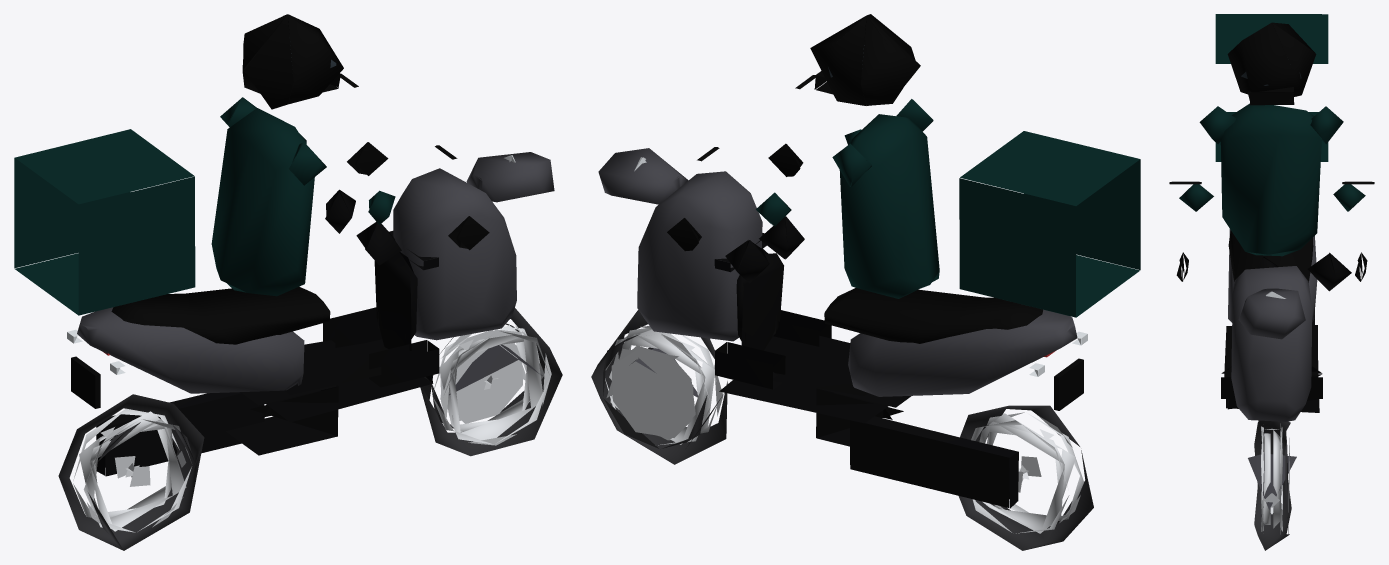
Rendered from m_livreur_ufar.glb.
3 renders of one model, left to right at view 1: azimuth 30°, elevation 25°; view 2: azimuth 150°, elevation 25°; view 3: azimuth 270°, elevation 25°, orthographic. The views are drawn at different scales.
Parts seen in each view (by area): view 1: TopBox, Shield, Torso, WheelF, WheelR, Rear, Seat, Helmet, Floor, CVT, Engine, Inner (+10 smaller); view 2: TopBox, Shield, Torso, WheelF, Rear, CVT, WheelR, Seat, Helmet, Floor, HeadCover, Inner (+10 smaller); view 3: Torso, Shield, Helmet, WheelF, TopBox, HeadCover, Seat, Floor, Knee, FenderF, Shoulder.001, Chin (+6 smaller).
Part boxes in pixels (x1=…): TopBox: x1=14, y1=129, x2=195, y2=315; Shield: x1=393, y1=168, x2=516, y2=340; Torso: x1=211, y1=108, x2=314, y2=296; WheelF: x1=420, y1=308, x2=562, y2=456; WheelR: x1=58, y1=394, x2=204, y2=550; Rear: x1=77, y1=307, x2=304, y2=393; Seat: x1=111, y1=286, x2=330, y2=344; Helmet: x1=242, y1=14, x2=343, y2=109; Floor: x1=266, y1=339, x2=433, y2=422; CVT: x1=96, y1=392, x2=264, y2=476; Engine: x1=225, y1=385, x2=338, y2=455; Inner: x1=374, y1=252, x2=417, y2=350; TopBox: x1=959, y1=131, x2=1140, y2=317; Shield: x1=637, y1=171, x2=762, y2=341; Torso: x1=839, y1=114, x2=939, y2=298; WheelF: x1=591, y1=310, x2=727, y2=464; Rear: x1=848, y1=309, x2=1077, y2=396; CVT: x1=850, y1=412, x2=1018, y2=508; WheelR: x1=958, y1=405, x2=1093, y2=550; Seat: x1=824, y1=288, x2=1042, y2=343; Helmet: x1=810, y1=14, x2=920, y2=105; Floor: x1=719, y1=335, x2=888, y2=423; HeadCover: x1=598, y1=148, x2=688, y2=204; Inner: x1=736, y1=248, x2=783, y2=350; Torso: x1=1220, y1=103, x2=1321, y2=256; Shield: x1=1231, y1=266, x2=1312, y2=421; Helmet: x1=1227, y1=22, x2=1316, y2=96; WheelF: x1=1254, y1=420, x2=1291, y2=550; TopBox: x1=1215, y1=14, x2=1328, y2=161; HeadCover: x1=1238, y1=288, x2=1305, y2=339; Seat: x1=1228, y1=230, x2=1313, y2=282; Floor: x1=1224, y1=325, x2=1319, y2=412; Knee: x1=1307, y1=252, x2=1351, y2=291; FenderF: x1=1248, y1=453, x2=1296, y2=509; Shoulder.001: x1=1199, y1=106, x2=1236, y2=144; Chin: x1=1247, y1=87, x2=1294, y2=105.
Size of the model in its own units: 1.94 by 1.77 by 0.7612.
